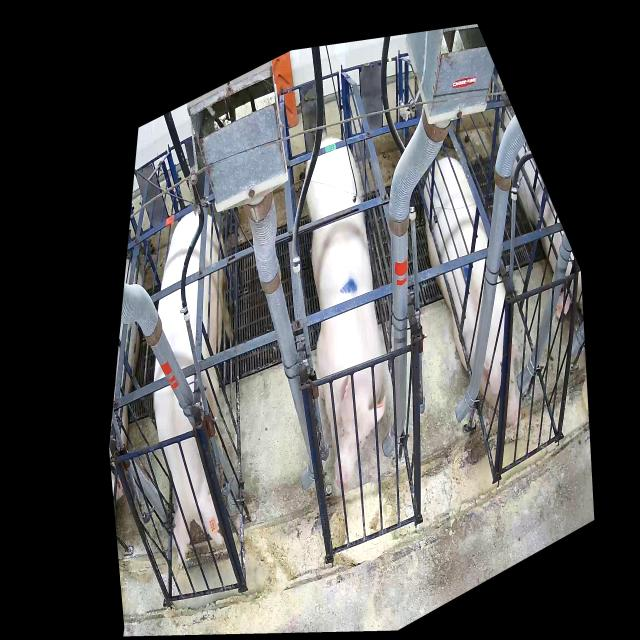pig: (154, 210, 234, 564), (306, 139, 386, 489), (425, 156, 520, 428)
